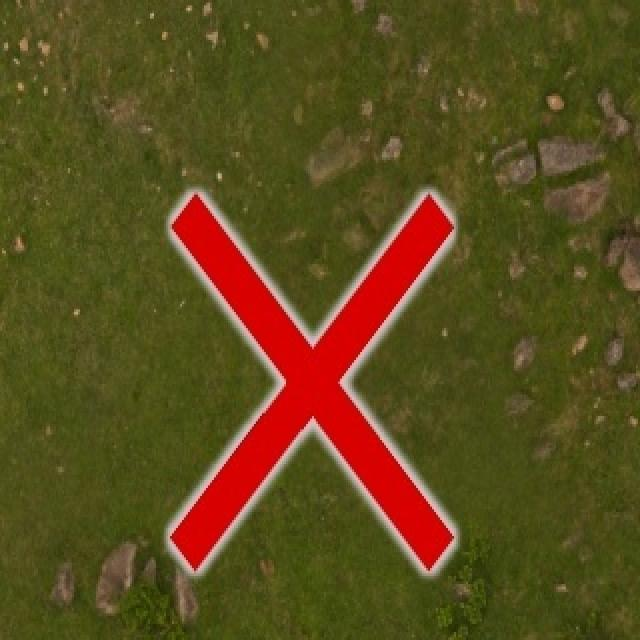x_marker: (169, 193, 453, 570)
